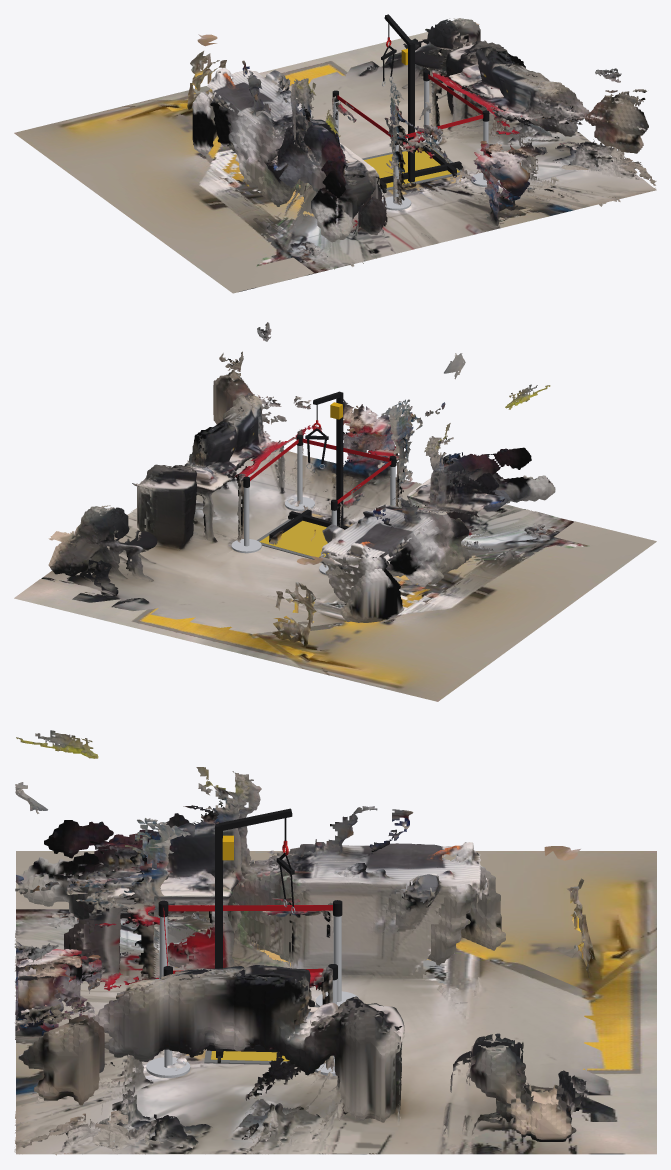
The model's file is station_patch.glb.
3 views of the same model, one above another, from view 1: azimuth 30°, elevation 25°; view 2: azimuth 150°, elevation 25°; view 3: azimuth 270°, elevation 25° (orthographic). The views are drawn at different scales.
Visible parts, largest first — view 1: StationPatch_visual, StationPatch_backfill, StationPatch_props; view 2: StationPatch_visual, StationPatch_backfill, StationPatch_props; view 3: StationPatch_visual, StationPatch_backfill, StationPatch_props.
Part boxes in pixels (x1,y1,x2,y2): StationPatch_visual: (14, 18, 656, 293); StationPatch_backfill: (192, 18, 648, 242); StationPatch_props: (332, 14, 499, 210); StationPatch_visual: (14, 322, 656, 701); StationPatch_backfill: (48, 370, 555, 622); StationPatch_props: (231, 391, 396, 575); StationPatch_visual: (14, 730, 656, 1155); StationPatch_backfill: (18, 813, 576, 1141); StationPatch_props: (146, 808, 358, 1077).
Size of the model in its own units: 5.72 by 1.97 by 5.12.
13 materials, 2 textured.
